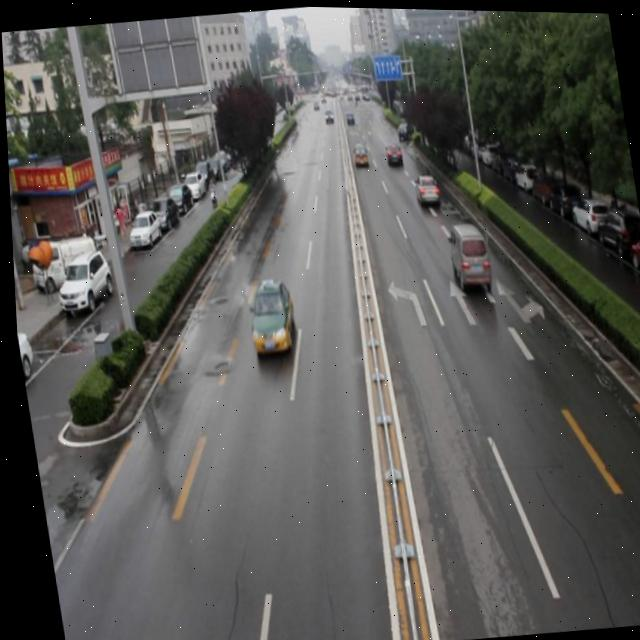car: (237, 273, 297, 358), (409, 168, 438, 205), (380, 138, 401, 163), (348, 138, 367, 165), (393, 117, 412, 141)
truck: (441, 216, 491, 291)
